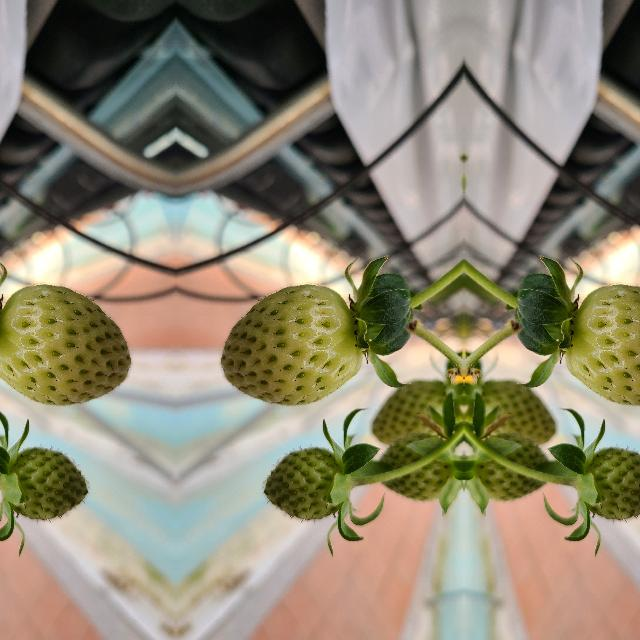Health_25: (220, 284, 362, 404), (0, 283, 130, 404), (564, 283, 640, 404), (372, 377, 462, 449), (464, 377, 554, 449), (264, 448, 348, 520), (2, 448, 86, 520), (378, 444, 458, 506), (468, 444, 548, 506), (578, 447, 640, 520)
